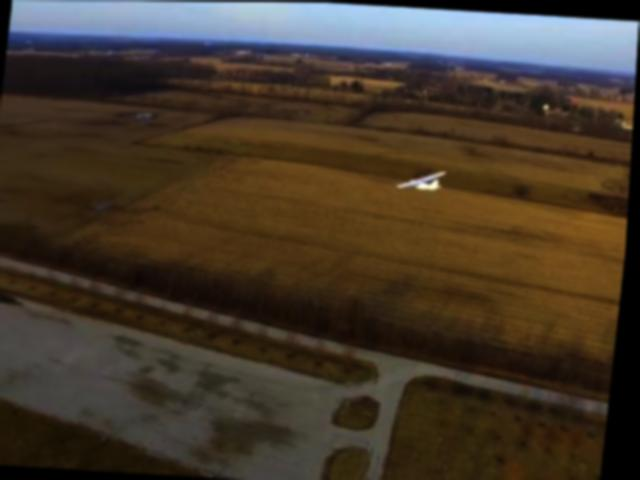uav: (390, 155, 453, 202)
